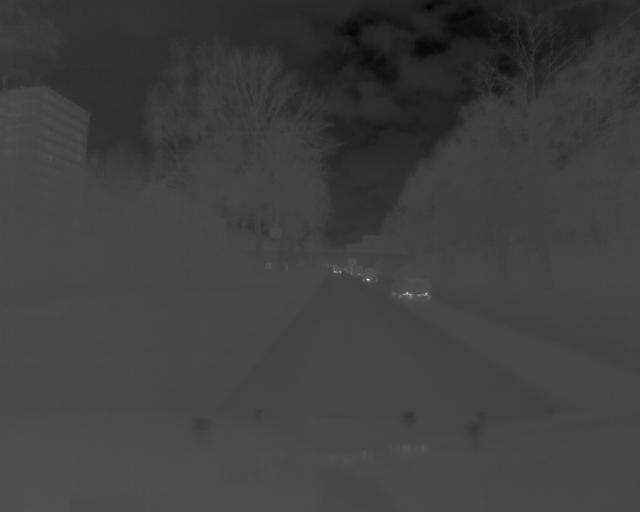car: (389, 268, 434, 305), (362, 266, 379, 285)
